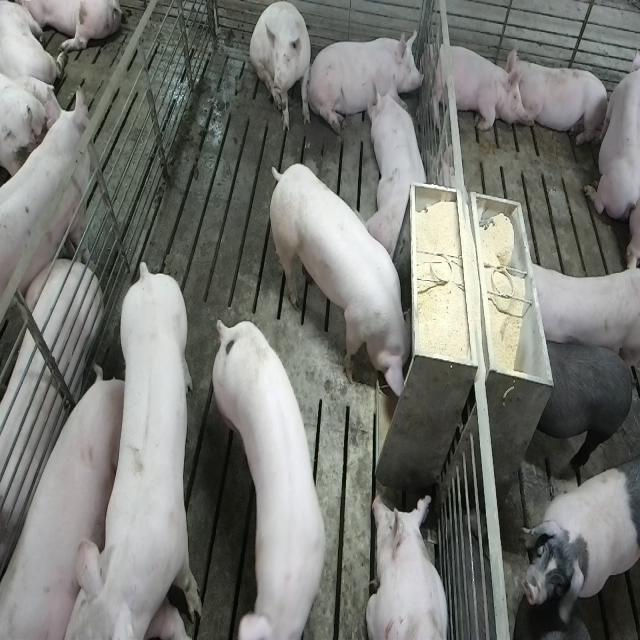Feeding: (265, 162, 411, 403)
Lateral_lying: (0, 260, 101, 614)
Sitting: (251, 2, 312, 135)
Standing: (80, 253, 204, 636), (214, 317, 332, 639), (0, 88, 91, 334), (520, 464, 638, 621), (527, 337, 636, 481), (521, 256, 637, 370)
Sternal_lying: (366, 491, 450, 640), (314, 29, 422, 133), (370, 77, 430, 262), (509, 50, 611, 150), (584, 36, 637, 223), (426, 36, 522, 134)
